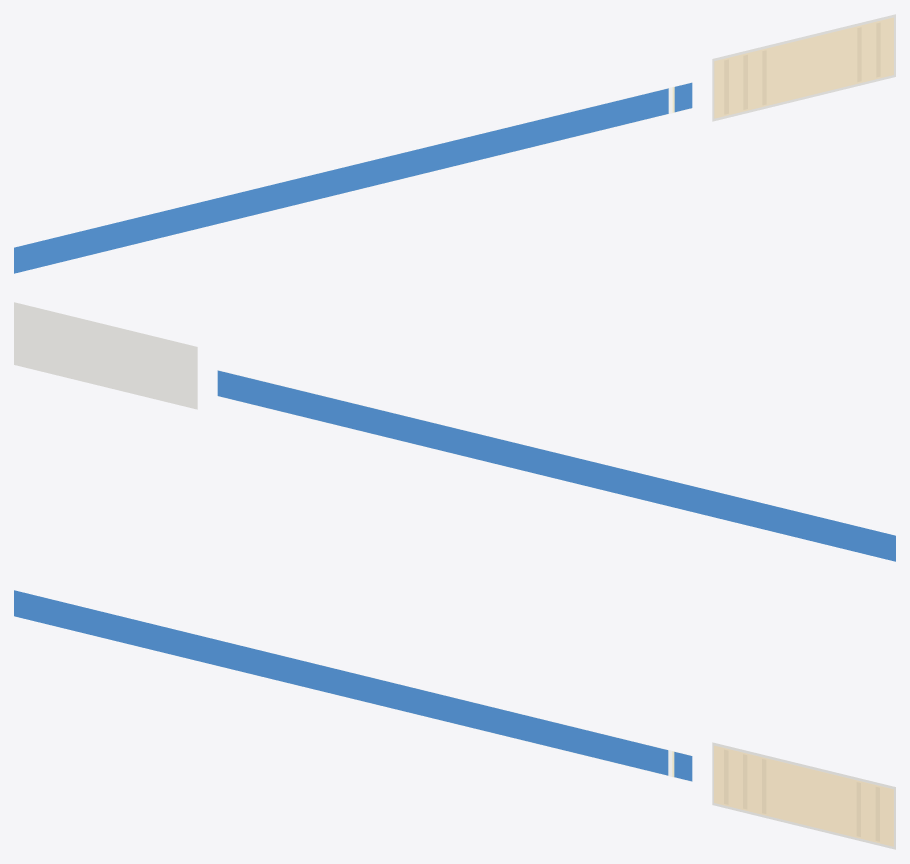
The model's file is longueur.glb.
3 renders of one model, top to bottom at view 1: azimuth 30°, elevation 25°; view 2: azimuth 150°, elevation 25°; view 3: azimuth 330°, elevation 25°, orthographic.
Visible parts, largest first — view 1: elan, fosse, bordure; view 2: elan, bordure; view 3: elan, fosse, bordure.
Part boxes in pixels (x1,y1,x2,y2): elan: (14, 82, 692, 273); fosse: (714, 17, 893, 118); bordure: (712, 14, 895, 121); elan: (217, 370, 895, 561); bordure: (14, 302, 197, 409); elan: (14, 590, 692, 781); fosse: (714, 745, 893, 846); bordure: (712, 742, 895, 849).
Size of the model in its own units: 44.2 by 3 by 0.0234.
